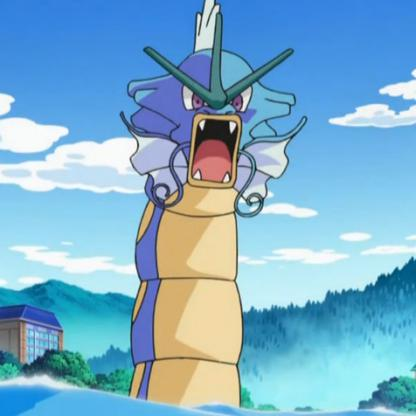Gyarados: (104, 1, 312, 416)
